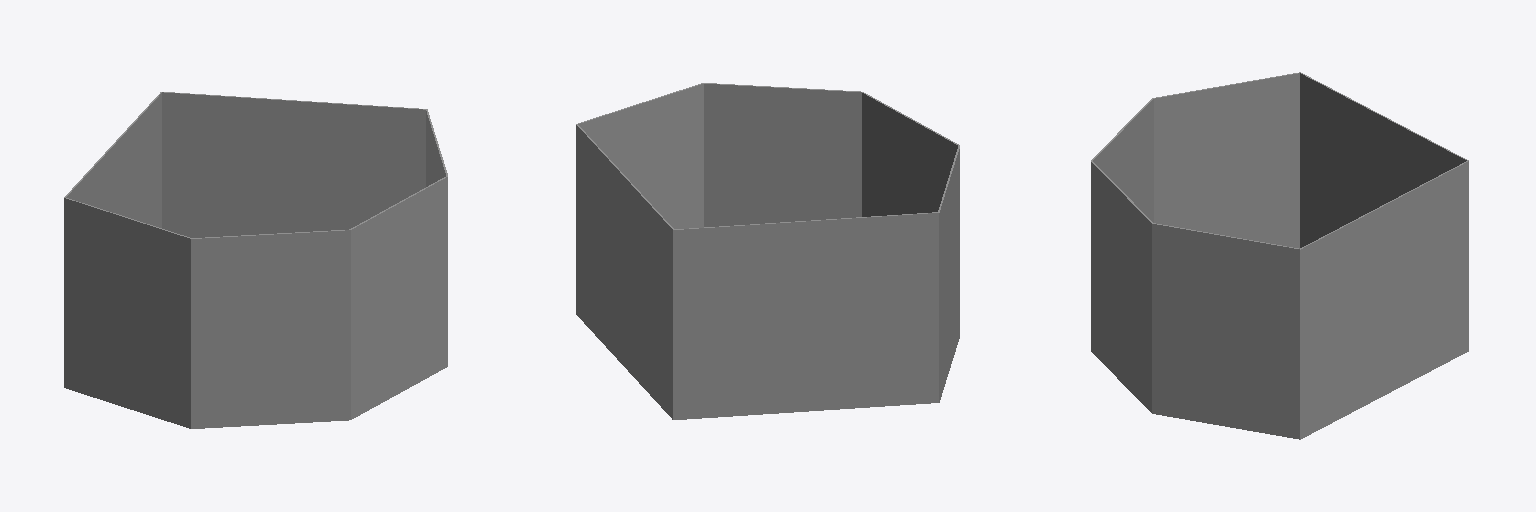
File: gate15.obj
3 views of the same model, side by side, from view 1: azimuth 30°, elevation 25°; view 2: azimuth 150°, elevation 25°; view 3: azimuth 270°, elevation 25° (orthographic).
Parts seen in each view (by area): view 1: Cylinder; view 2: Cylinder; view 3: Cylinder.
Part boxes in pixels (x1,y1,x2,y2): Cylinder: (64, 92, 447, 428); Cylinder: (576, 83, 959, 419); Cylinder: (1091, 72, 1468, 439).
Bounding box in the file's own units: 2 × 1 × 1.8.